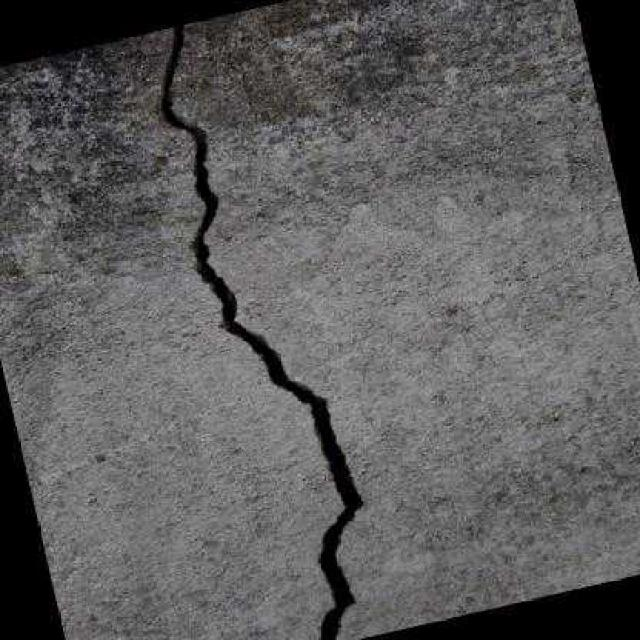D00: (160, 22, 364, 640)
